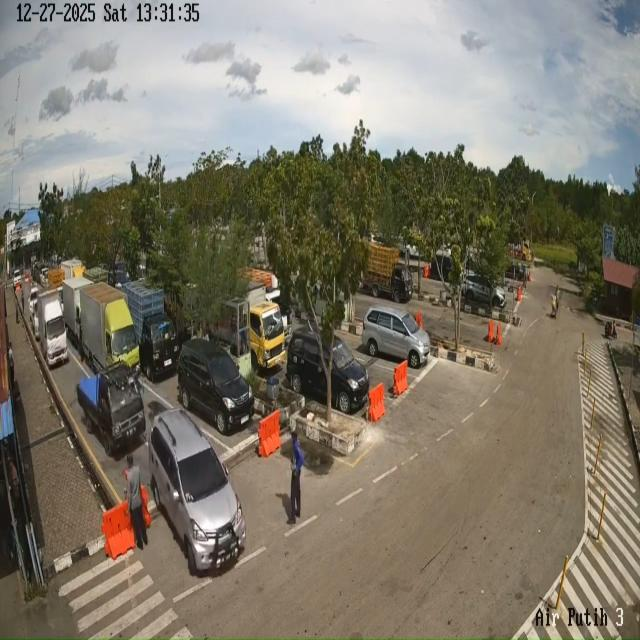Golongan IVA: (147, 408, 246, 574), (178, 338, 254, 434), (286, 328, 370, 413), (362, 305, 431, 369), (462, 271, 506, 309)
Golongan IVB: (76, 363, 146, 456), (363, 242, 413, 302)
Golongan VB: (80, 283, 140, 371), (36, 289, 69, 368), (62, 276, 92, 346)
